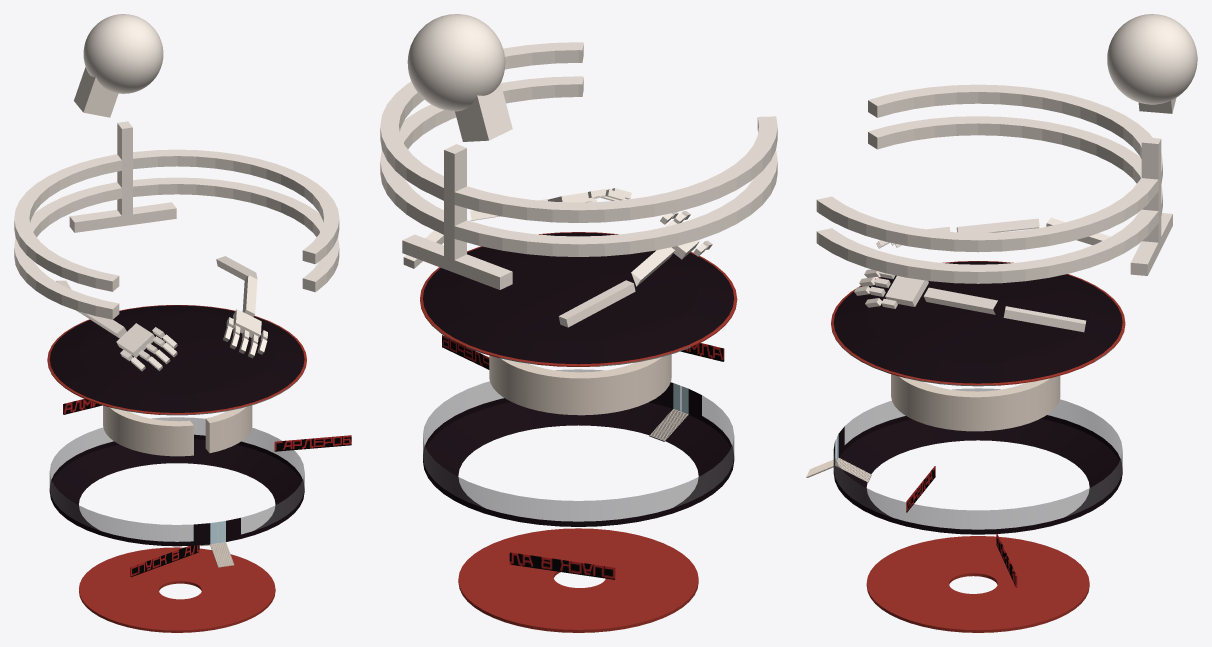
The model's file is pzdc.gltf.
The picture shows the model from 3 angles, left to right: view 1: azimuth 30°, elevation 25°; view 2: azimuth 150°, elevation 25°; view 3: azimuth 270°, elevation 25°; orthographic projection. The views are drawn at different scales.
Visible parts, largest first — view 1: root, object 9, object 7, object 10, object 6, object 4, object 2, object 3; view 2: root, object 9, object 7, object 10, object 6, object 4, object 5, object 2; view 3: root, object 9, object 7, object 10, object 6, object 2, object 3, object 4.
Part boxes in pixels (<box>): root: <box>14,14,351,577</box>; object 9: <box>47,305,306,415</box>; object 7: <box>49,417,304,562</box>; object 10: <box>79,547,275,632</box>; object 6: <box>103,405,252,456</box>; object 4: <box>77,311,177,371</box>; object 2: <box>223,275,267,358</box>; object 3: <box>216,256,257,280</box>; root: <box>380,14,777,579</box>; object 9: <box>420,232,737,366</box>; object 7: <box>423,369,734,526</box>; object 10: <box>458,528,698,632</box>; object 6: <box>489,354,671,415</box>; object 4: <box>631,211,712,286</box>; object 5: <box>558,280,635,327</box>; object 2: <box>470,188,631,220</box>; root: <box>816,14,1197,587</box>; object 9: <box>831,261,1125,386</box>; object 7: <box>807,388,1122,534</box>; object 10: <box>866,536,1089,632</box>; object 6: <box>891,374,1060,431</box>; object 2: <box>854,269,997,314</box>; object 3: <box>1003,306,1086,332</box>; object 4: <box>876,218,1039,248</box>.
Bounding box in the file's own units: 115 × 198 × 121.
10 materials, 4 textured.
